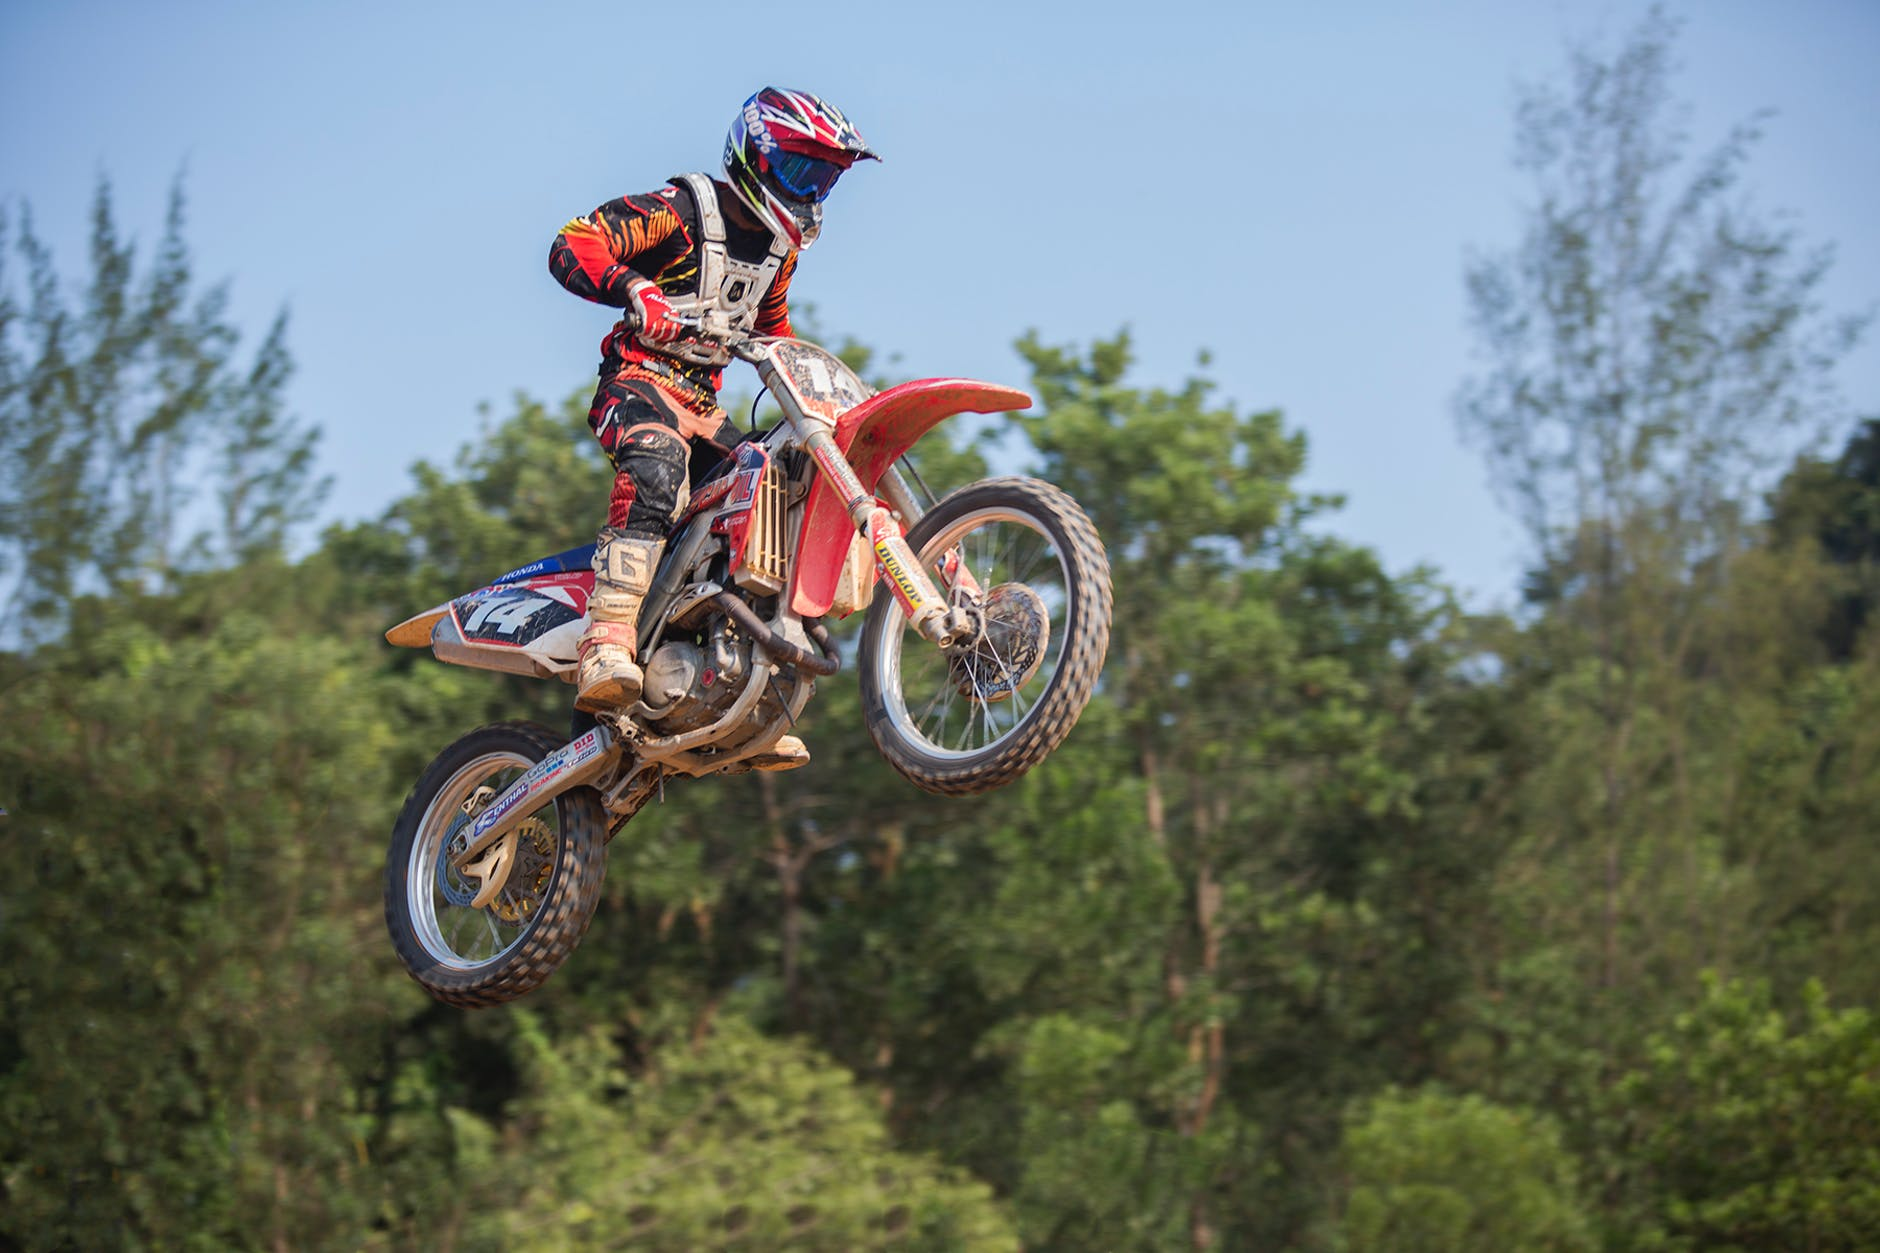helmet: (732, 78, 850, 242)
